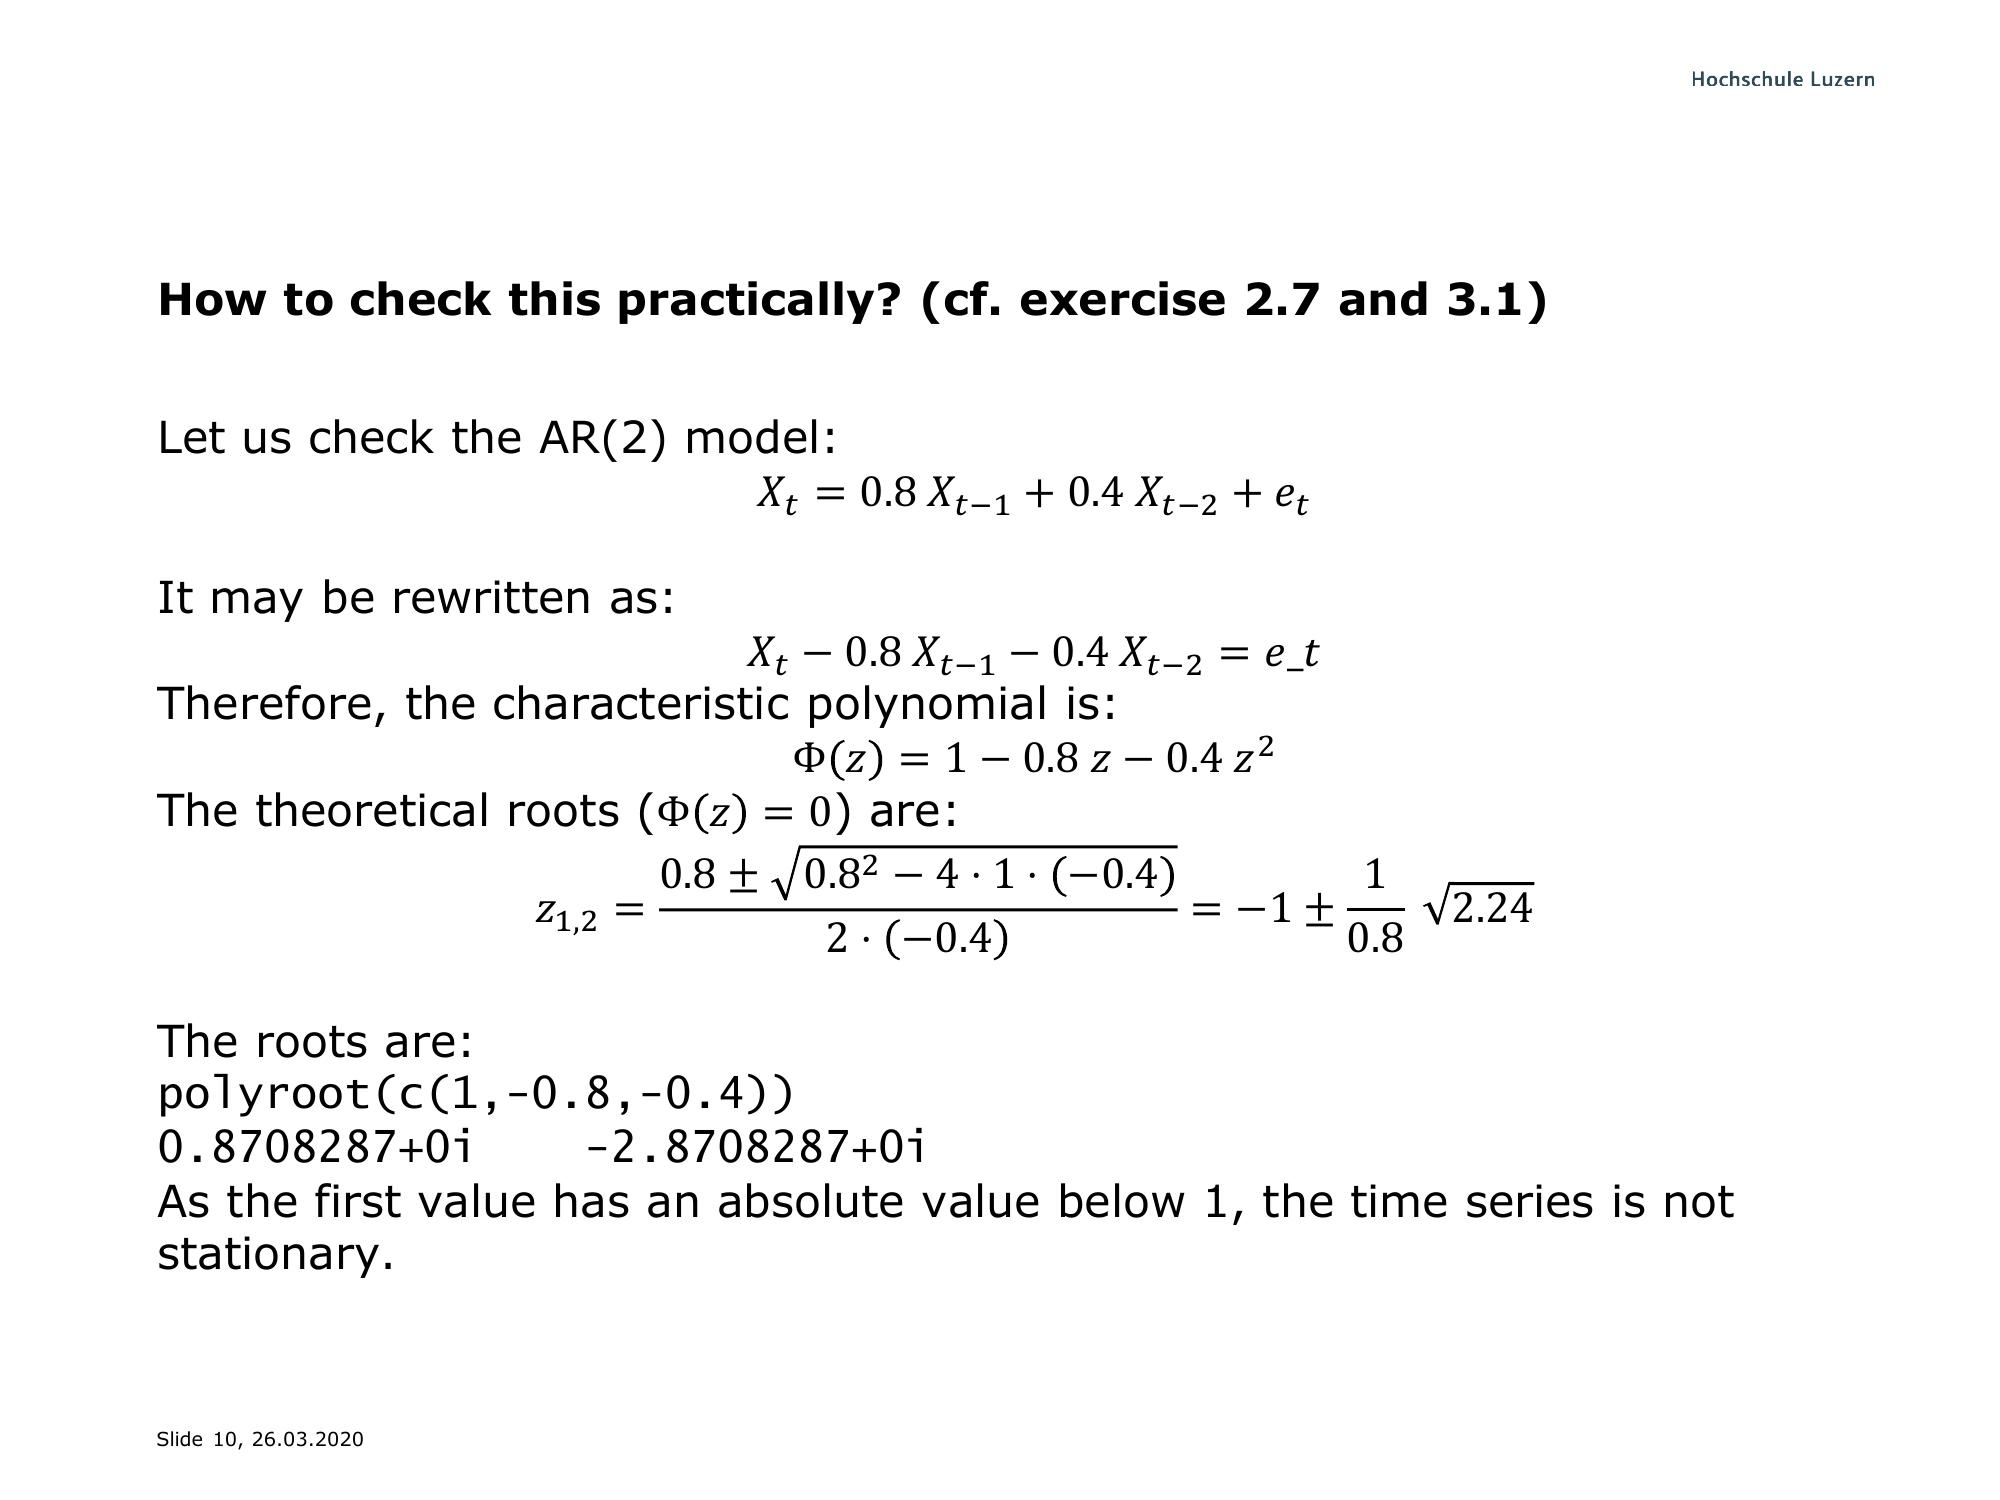Title: (146, 258, 1565, 339)
